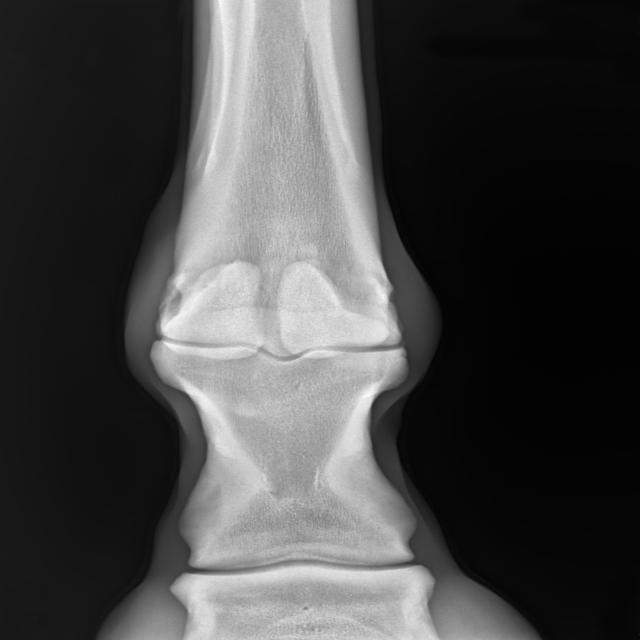joint-ht8A: (103, 208, 476, 463)
